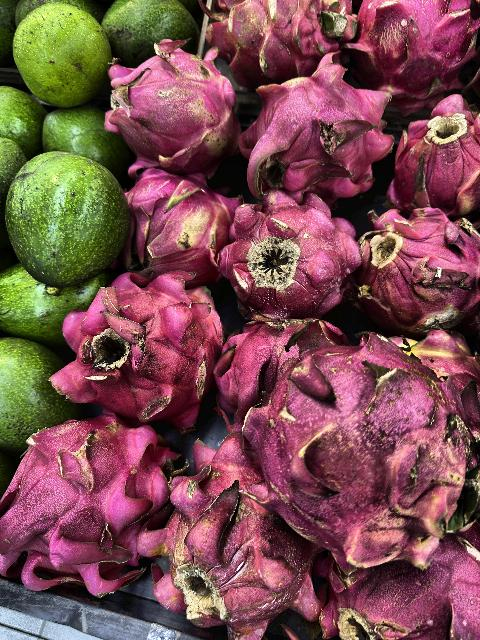buah-naga-belum-matang: (248, 334, 480, 560), (242, 58, 392, 202), (102, 59, 250, 170), (126, 168, 230, 274), (394, 99, 480, 221), (209, 0, 352, 66)
buah-naga-matang: (165, 428, 317, 640), (4, 406, 164, 600), (61, 267, 212, 418), (312, 536, 480, 640), (226, 198, 368, 312), (350, 204, 480, 326), (348, 0, 479, 100), (219, 309, 347, 391)
